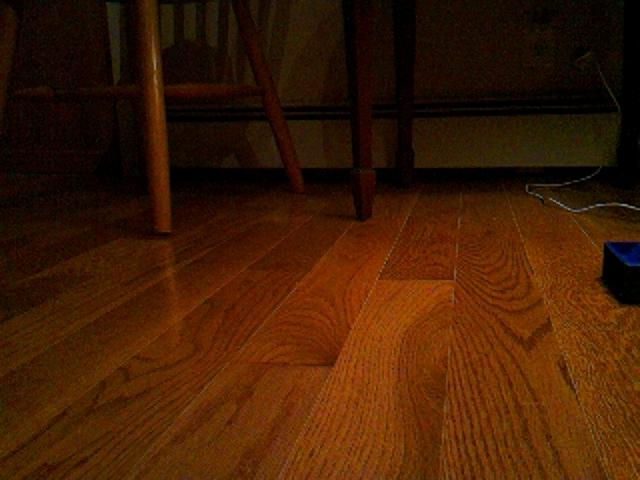blue: (600, 237, 640, 307)
